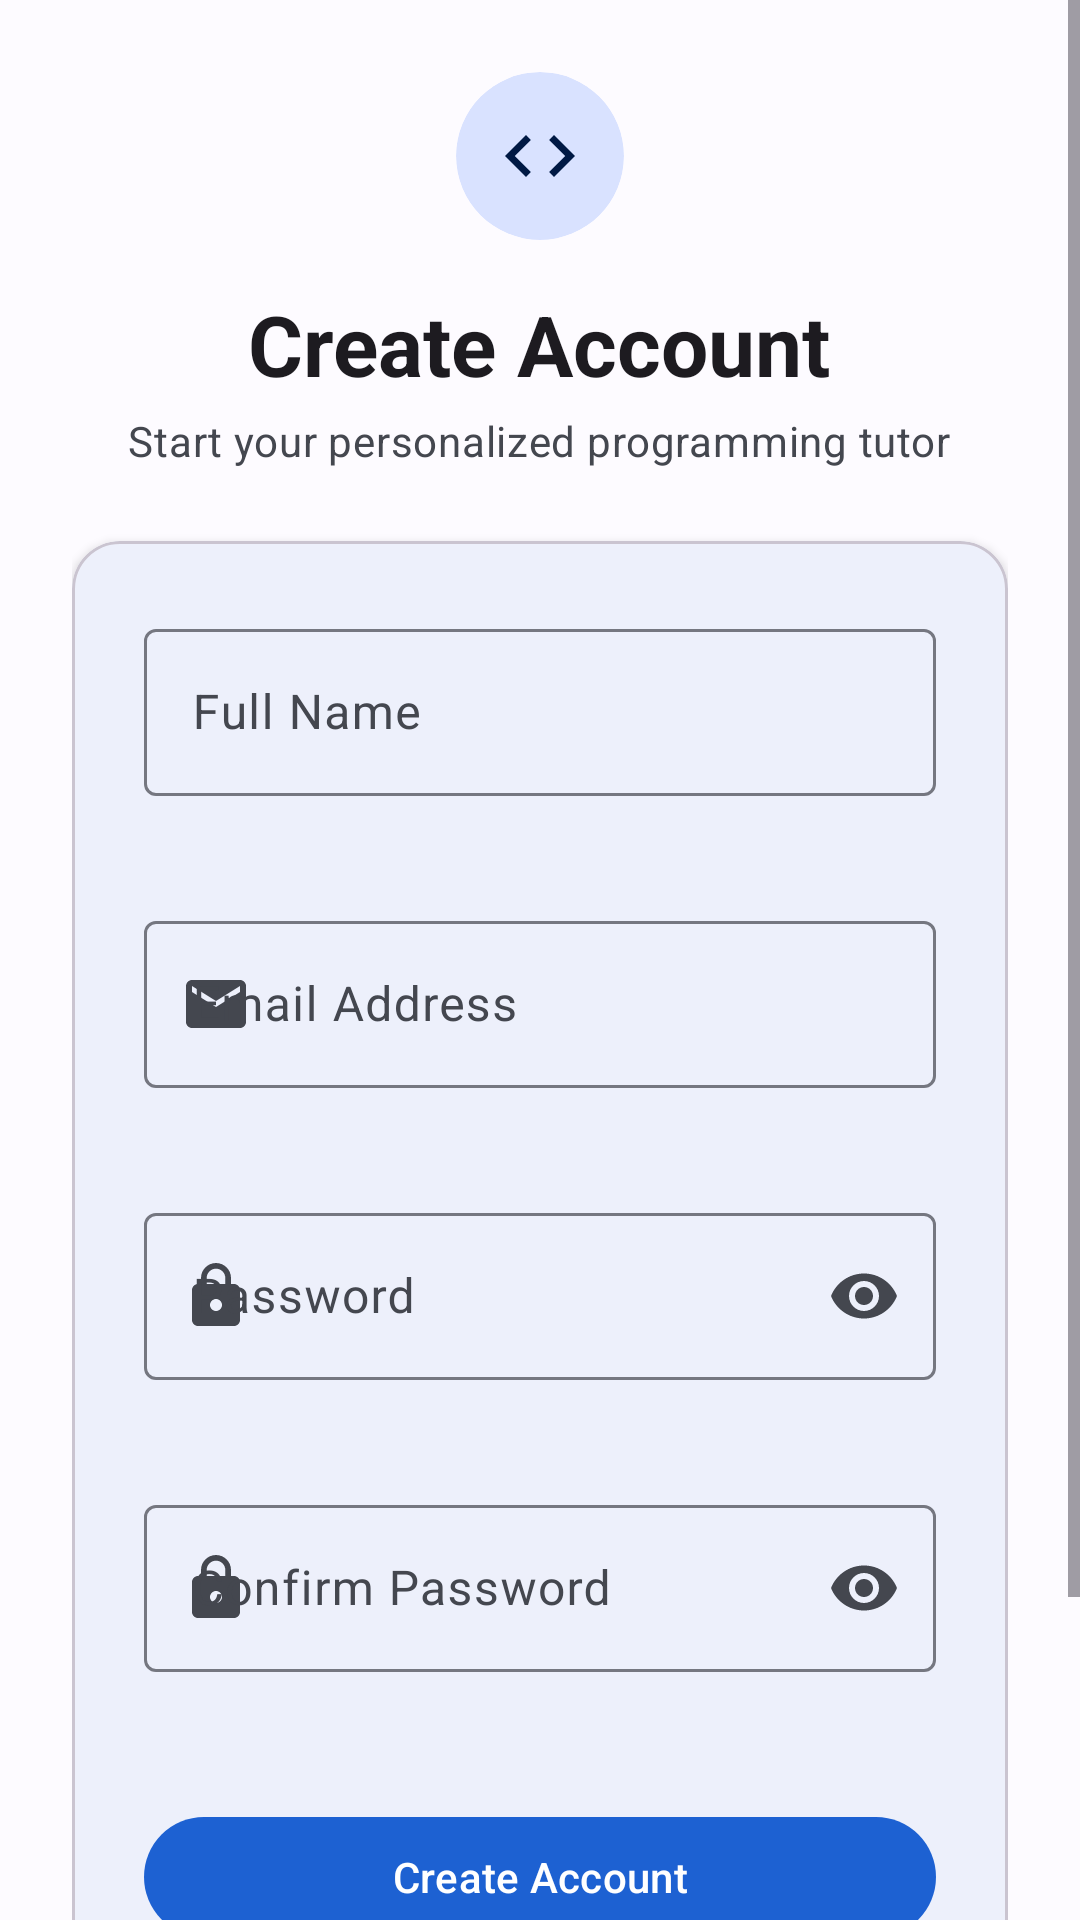

Screen size 1080px x 1920px. Icon name, then its box in pixels as (x1, y1, x2, y2):
code: (505, 135, 575, 177)
